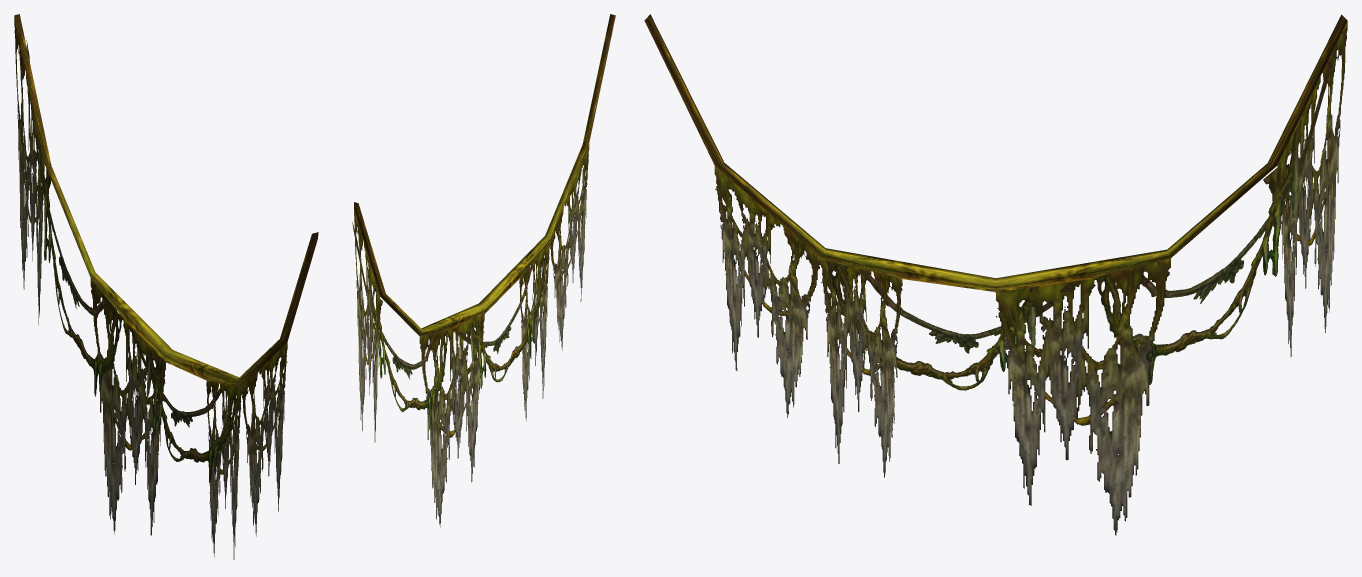
File: swamphangingvines02.obj
3 views of the same model, side by side, from view 1: azimuth 30°, elevation 25°; view 2: azimuth 150°, elevation 25°; view 3: azimuth 270°, elevation 25° (orthographic). The views are drawn at different scales.
Visible parts, largest first — view 1: Geoset2, Geoset1, Geoset0; view 2: Geoset2, Geoset1, Geoset0; view 3: Geoset2, Geoset0, Geoset1.
Boxes of the visible parts, bbox=[...] form: Geoset2: bbox=[14, 17, 287, 559]; Geoset1: bbox=[14, 14, 318, 388]; Geoset0: bbox=[26, 40, 236, 483]; Geoset2: bbox=[354, 144, 589, 527]; Geoset1: bbox=[354, 14, 615, 336]; Geoset0: bbox=[352, 221, 545, 427]; Geoset2: bbox=[714, 21, 1347, 535]; Geoset0: bbox=[826, 47, 1336, 390]; Geoset1: bbox=[644, 14, 1347, 291].
Bounding box in the file's own units: 0.8649 × 28.57 × 33.27.
3 materials, 3 textured.
